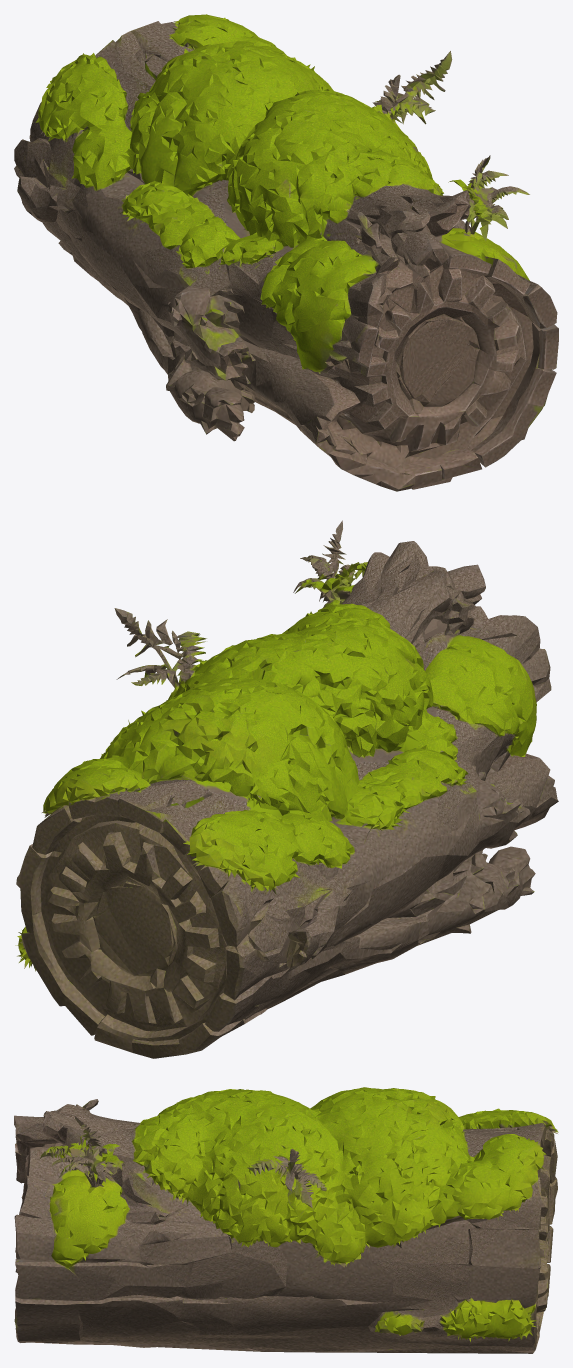
Rendered from MossLog.glb.
3 renders of one model, top to bottom at view 1: azimuth 30°, elevation 25°; view 2: azimuth 150°, elevation 25°; view 3: azimuth 270°, elevation 25°, orthographic. The views are drawn at different scales.
Bounding box in the file's own units: 1.15 × 0.9687 × 1.9.
Materials: 1 (1 with a texture image).
